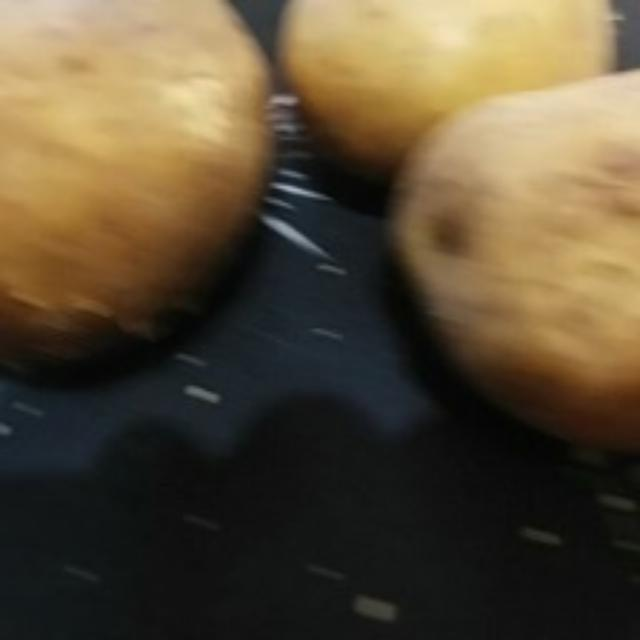Damaged potato: (1, 1, 276, 389), (378, 68, 640, 472)
Potato: (274, 0, 640, 178)
